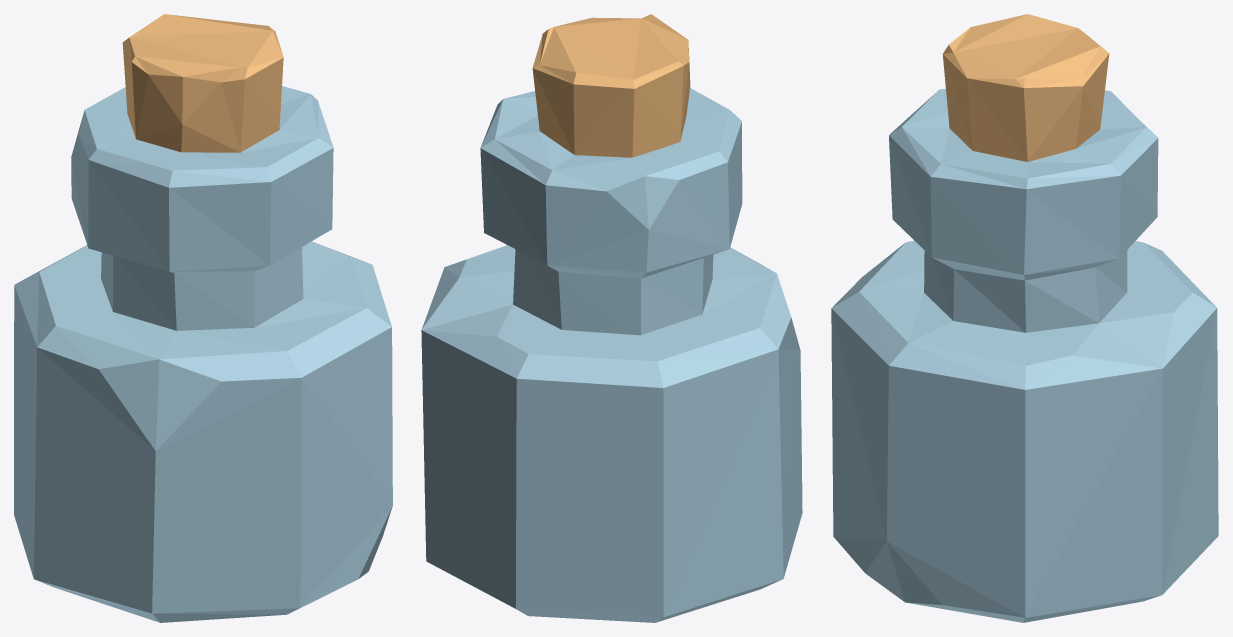
File: SFHW_Bottle_Liquid_024.fbx
3 renders of one model, left to right at view 1: azimuth 30°, elevation 25°; view 2: azimuth 150°, elevation 25°; view 3: azimuth 270°, elevation 25°, orthographic.
Parts seen in each view (by area): view 1: SFHW_Bottle_Liquid_024; view 2: SFHW_Bottle_Liquid_024; view 3: SFHW_Bottle_Liquid_024.
Boxes of the visible parts, x1,y1,x2,y2 form: SFHW_Bottle_Liquid_024: (14,14,392,622); SFHW_Bottle_Liquid_024: (421,14,802,622); SFHW_Bottle_Liquid_024: (831,14,1218,622).
Bounding box in the file's own units: 8.11 × 11.75 × 8.1.
